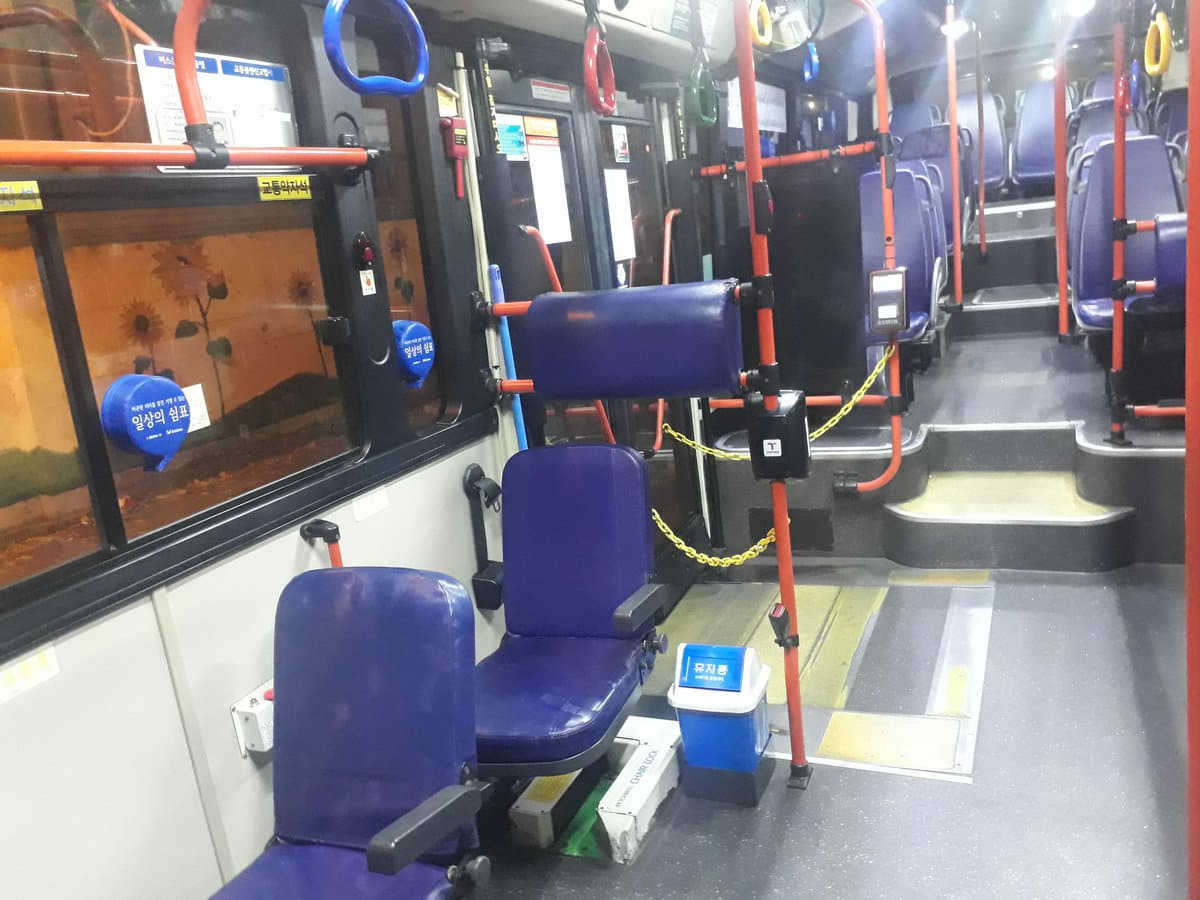seat: (477, 450, 650, 761)
